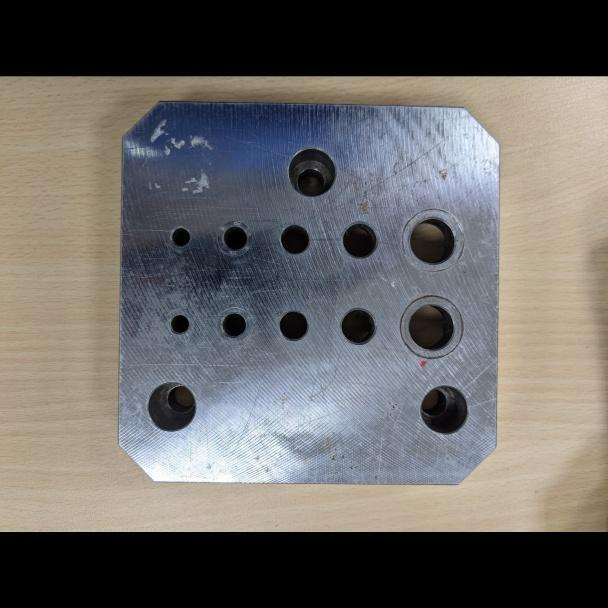hole: (395, 287, 472, 368), (397, 203, 471, 279), (139, 373, 202, 443), (412, 377, 475, 441), (281, 140, 342, 202), (334, 300, 383, 351), (337, 212, 383, 266), (211, 214, 260, 263), (271, 302, 314, 346), (275, 217, 315, 264), (213, 303, 254, 348), (160, 305, 199, 346), (162, 219, 199, 258)
